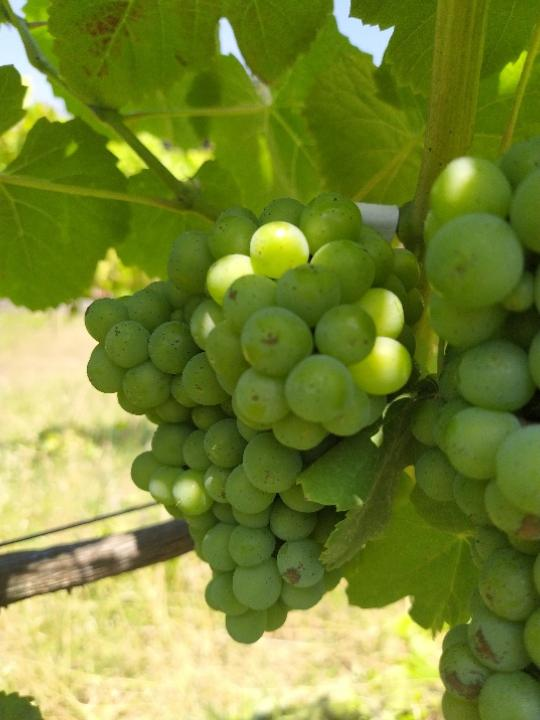grape: (84, 189, 426, 646)
